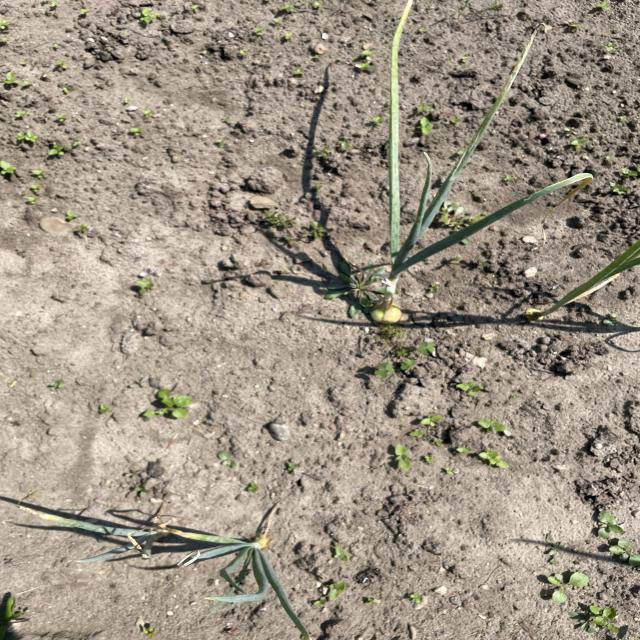Onion: (366, 23, 556, 329), (521, 240, 640, 333), (177, 516, 286, 616), (46, 509, 180, 572)
weed: (389, 415, 453, 475), (590, 507, 640, 570), (136, 388, 196, 426), (538, 568, 590, 606), (578, 600, 622, 640), (124, 275, 163, 300), (327, 544, 363, 568), (0, 159, 23, 181)
